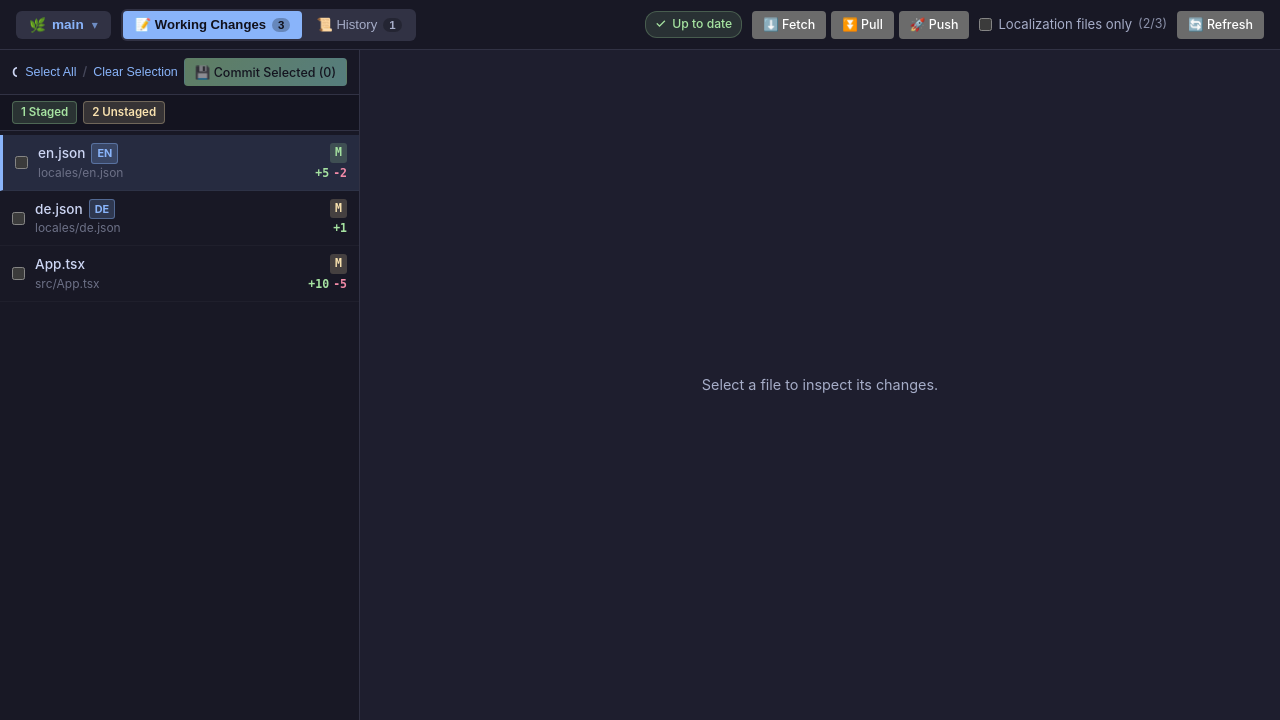
GitSourceControlView › Selective Commit Workflow › handles WARNINGS preflight state and requires acknowledgment checkbox before enabling commit
The image size is (1280, 720).
Click the checkbox with test id "git-file-checkbox-en.json" at (22, 162), box 15,156 -> 28,169
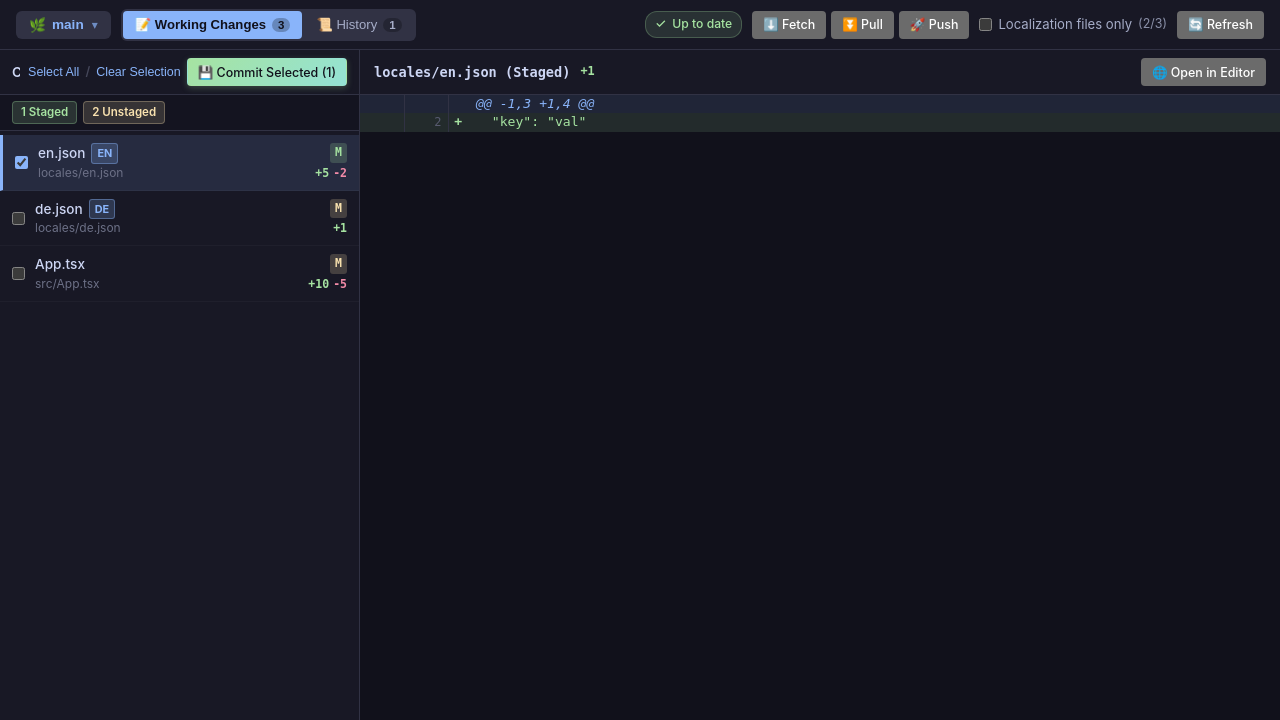
Click the button with test id "git-commit-selected-btn" at (267, 72), box 187,58 -> 347,86
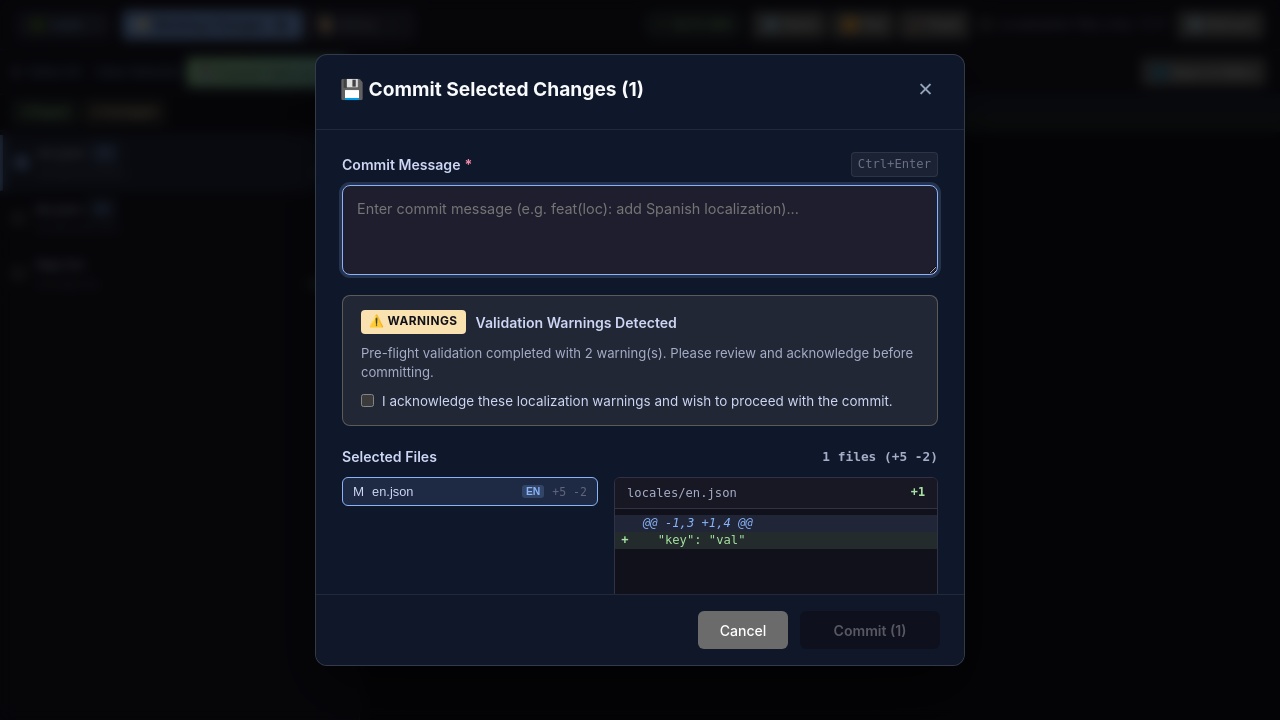
Check: the dialog with test id "commit-selected-modal" is shown
Check: the element with test id "commit-preflight-warnings" is shown, box 342,295 -> 938,426
Check: the checkbox with test id "commit-acknowledge-warnings-checkbox" is shown, box 361,394 -> 374,408
Replace the text in the text box with test id "commit-message-input" with "feat: update with known warnings" at (640, 230), box 342,185 -> 938,275
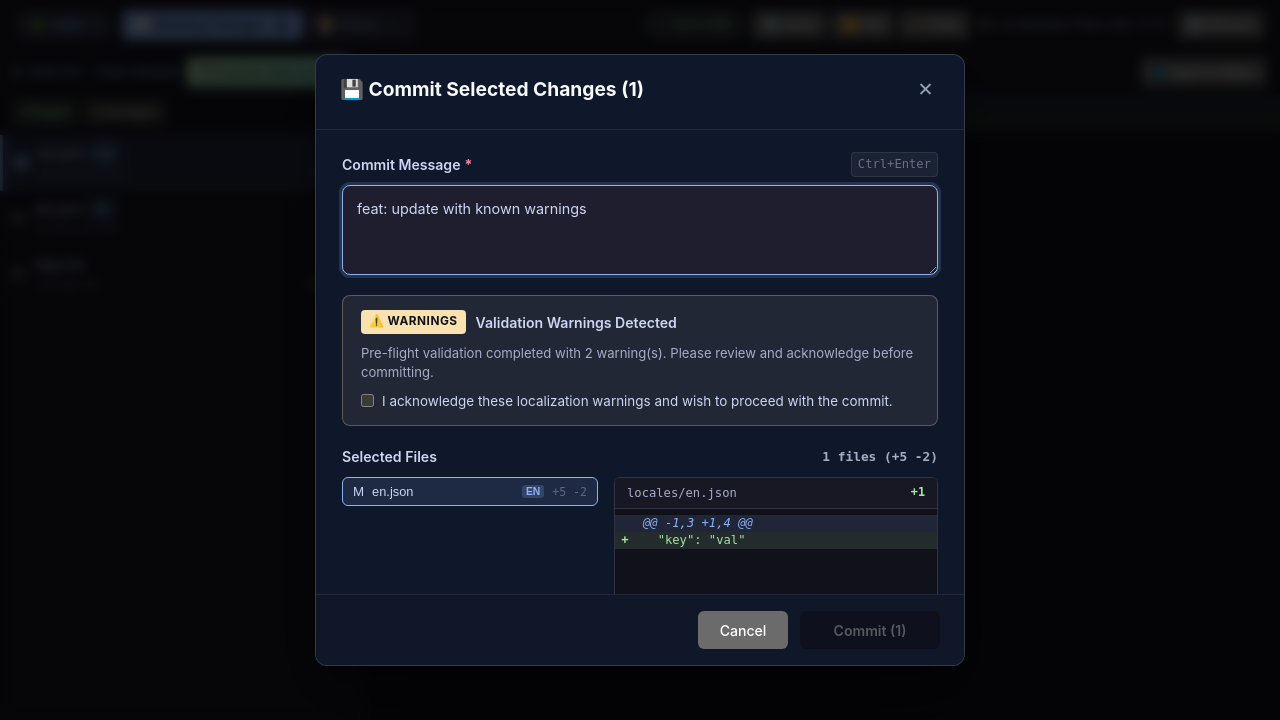
Check: the button with test id "commit-submit-btn" is disabled, box 800,611 -> 940,649
Click the checkbox with test id "commit-acknowledge-warnings-checkbox" at (368, 401), box 361,394 -> 374,408
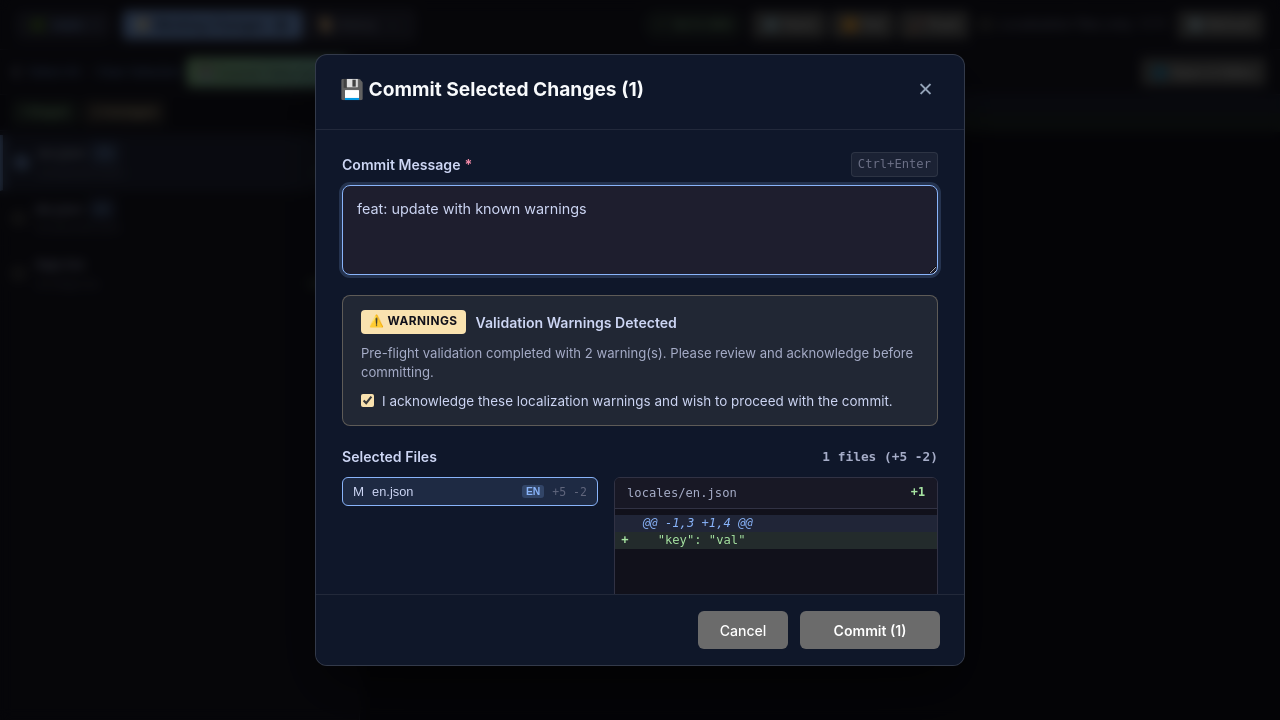
Check: the button with test id "commit-submit-btn" is enabled, box 800,611 -> 940,649
